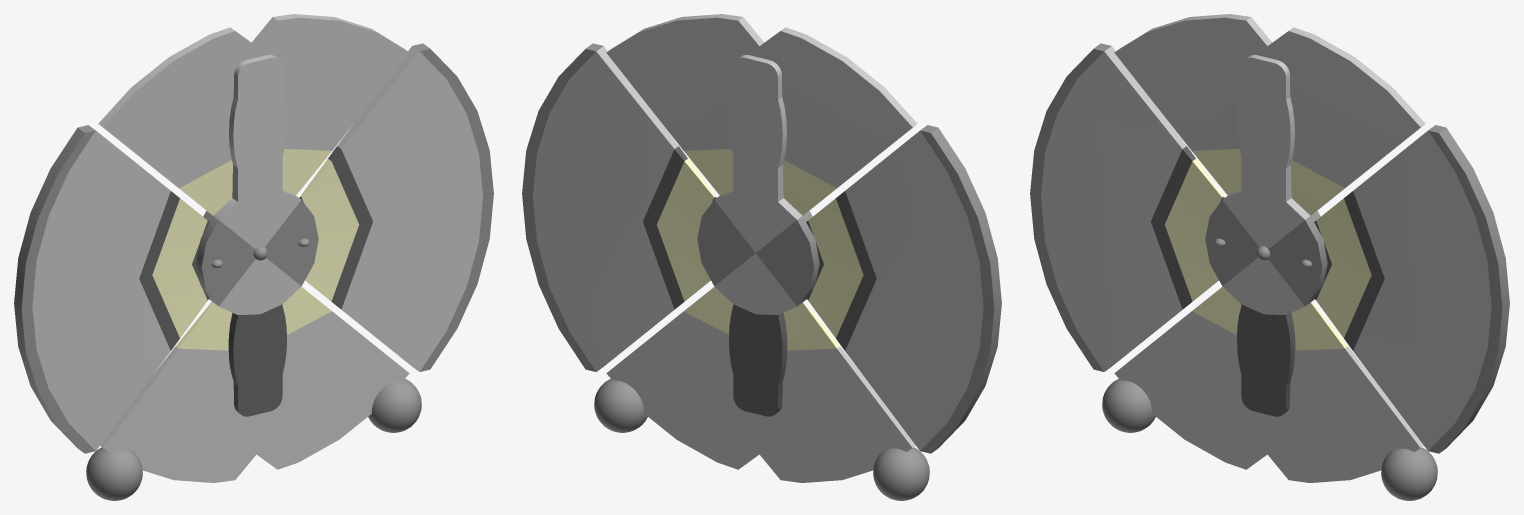
File: persoethique_white.fbx
3 views of the same model, side by side, from view 1: azimuth 30°, elevation 25°; view 2: azimuth 150°, elevation 25°; view 3: azimuth 330°, elevation 25° (orthographic).
Visible parts, largest first — view 1: Circle.002, Circle.008, Circle.001, Circle.009, Circle.010, Sphere.007; view 2: Circle.002, Circle.008, Circle.001, Circle.009, Circle.010, Sphere.007; view 3: Circle.008, Circle.002, Circle.001, Circle.009, Circle.010, Sphere.007.
Boxes of the visible parts, box(x1,y1,x2,y2) form: Circle.002: box(14, 125, 209, 453); Circle.008: box(299, 43, 493, 371); Circle.001: box(100, 286, 409, 482); Circle.009: box(98, 14, 409, 215); Circle.010: box(196, 55, 318, 416); Sphere.007: box(86, 378, 421, 500); Circle.002: box(806, 125, 1001, 453); Circle.008: box(522, 43, 716, 371); Circle.001: box(606, 286, 915, 482); Circle.009: box(606, 14, 917, 215); Circle.010: box(697, 55, 819, 416); Sphere.007: box(594, 378, 929, 500); Circle.008: box(1314, 125, 1509, 453); Circle.002: box(1030, 43, 1224, 371); Circle.001: box(1114, 286, 1423, 482); Circle.009: box(1114, 14, 1425, 215); Circle.010: box(1205, 55, 1327, 416); Sphere.007: box(1102, 378, 1437, 500).
Size of the model in its own units: 218 by 198 by 22.72.
